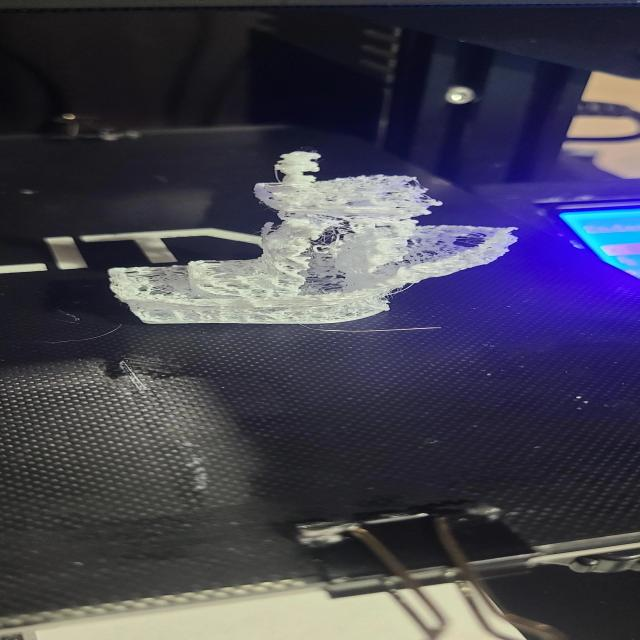spaghetti: (104, 147, 521, 326)
